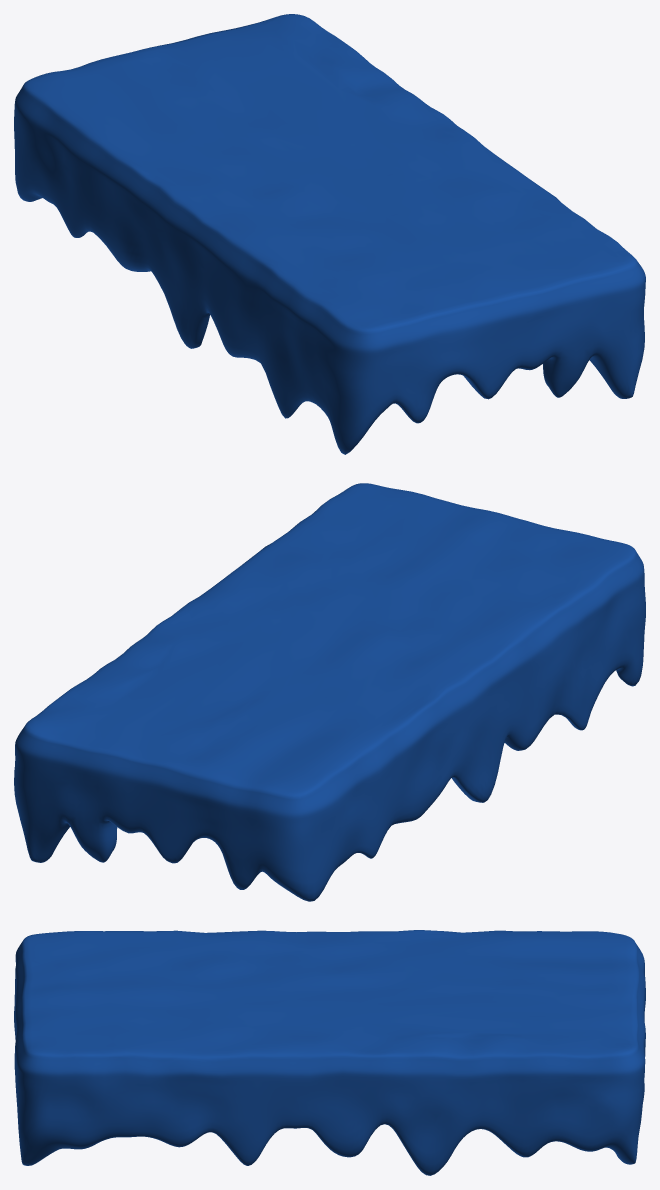
File: iceLong.fbx
3 renders of one model, top to bottom at view 1: azimuth 30°, elevation 25°; view 2: azimuth 150°, elevation 25°; view 3: azimuth 270°, elevation 25°, orthographic. The views are drawn at different scales.
Visible parts, largest first — view 1: iceLong; view 2: iceLong; view 3: iceLong.
Part boxes in pixels (<box>): iceLong: <box>14,14,645,454</box>; iceLong: <box>14,483,645,901</box>; iceLong: <box>14,930,645,1175</box>.
Size of the model in its own units: 1.01 by 0.4279 by 2.
